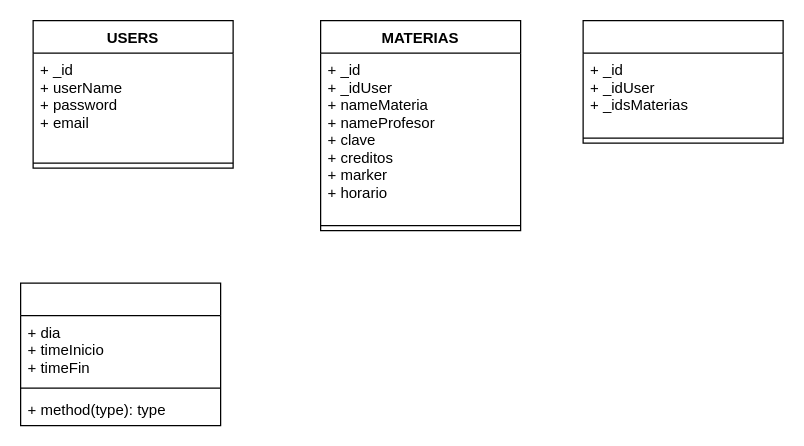
Some shapes in this 804 by 446 pixel diagram are drawn without their labels. Here are the shapes that lost their labels. From the top down, the box of each, then its label:
(582, 19, 783, 143): HORIOS
(19, 282, 221, 426): Hora
